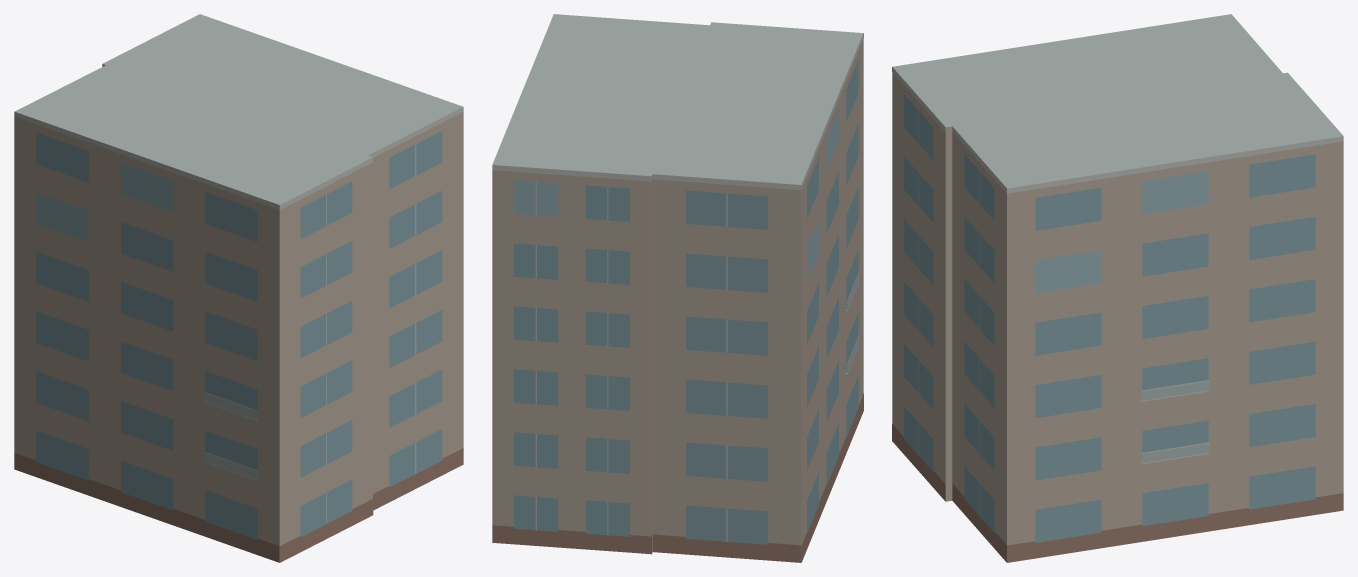
Rendered from survey-upis-32710153.glb.
The picture shows the model from 3 angles, left to right: view 1: azimuth 30°, elevation 25°; view 2: azimuth 150°, elevation 25°; view 3: azimuth 270°, elevation 25°; orthographic projection. The views are drawn at different scales.
Parts seen in each view (by area): view 1: survey-upis-32710153.tmp; view 2: survey-upis-32710153.tmp; view 3: survey-upis-32710153.tmp.
Boxes of the visible parts, x1,y1,x2,y2 form: survey-upis-32710153.tmp: [14, 14, 463, 562]; survey-upis-32710153.tmp: [492, 14, 863, 562]; survey-upis-32710153.tmp: [892, 14, 1343, 562].
Bounding box in the file's own units: 17.41 × 17.4 × 19.03.
